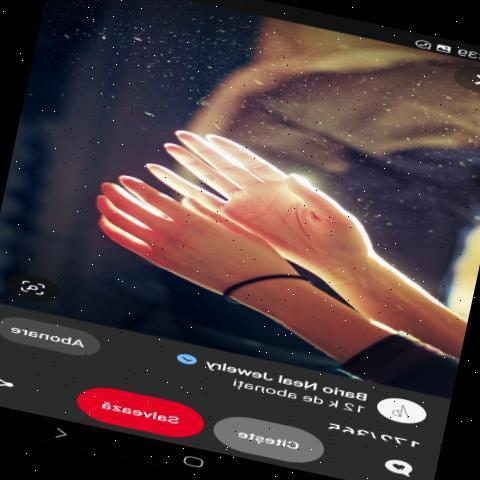Hands: (160, 79, 394, 267), (45, 171, 265, 313)
